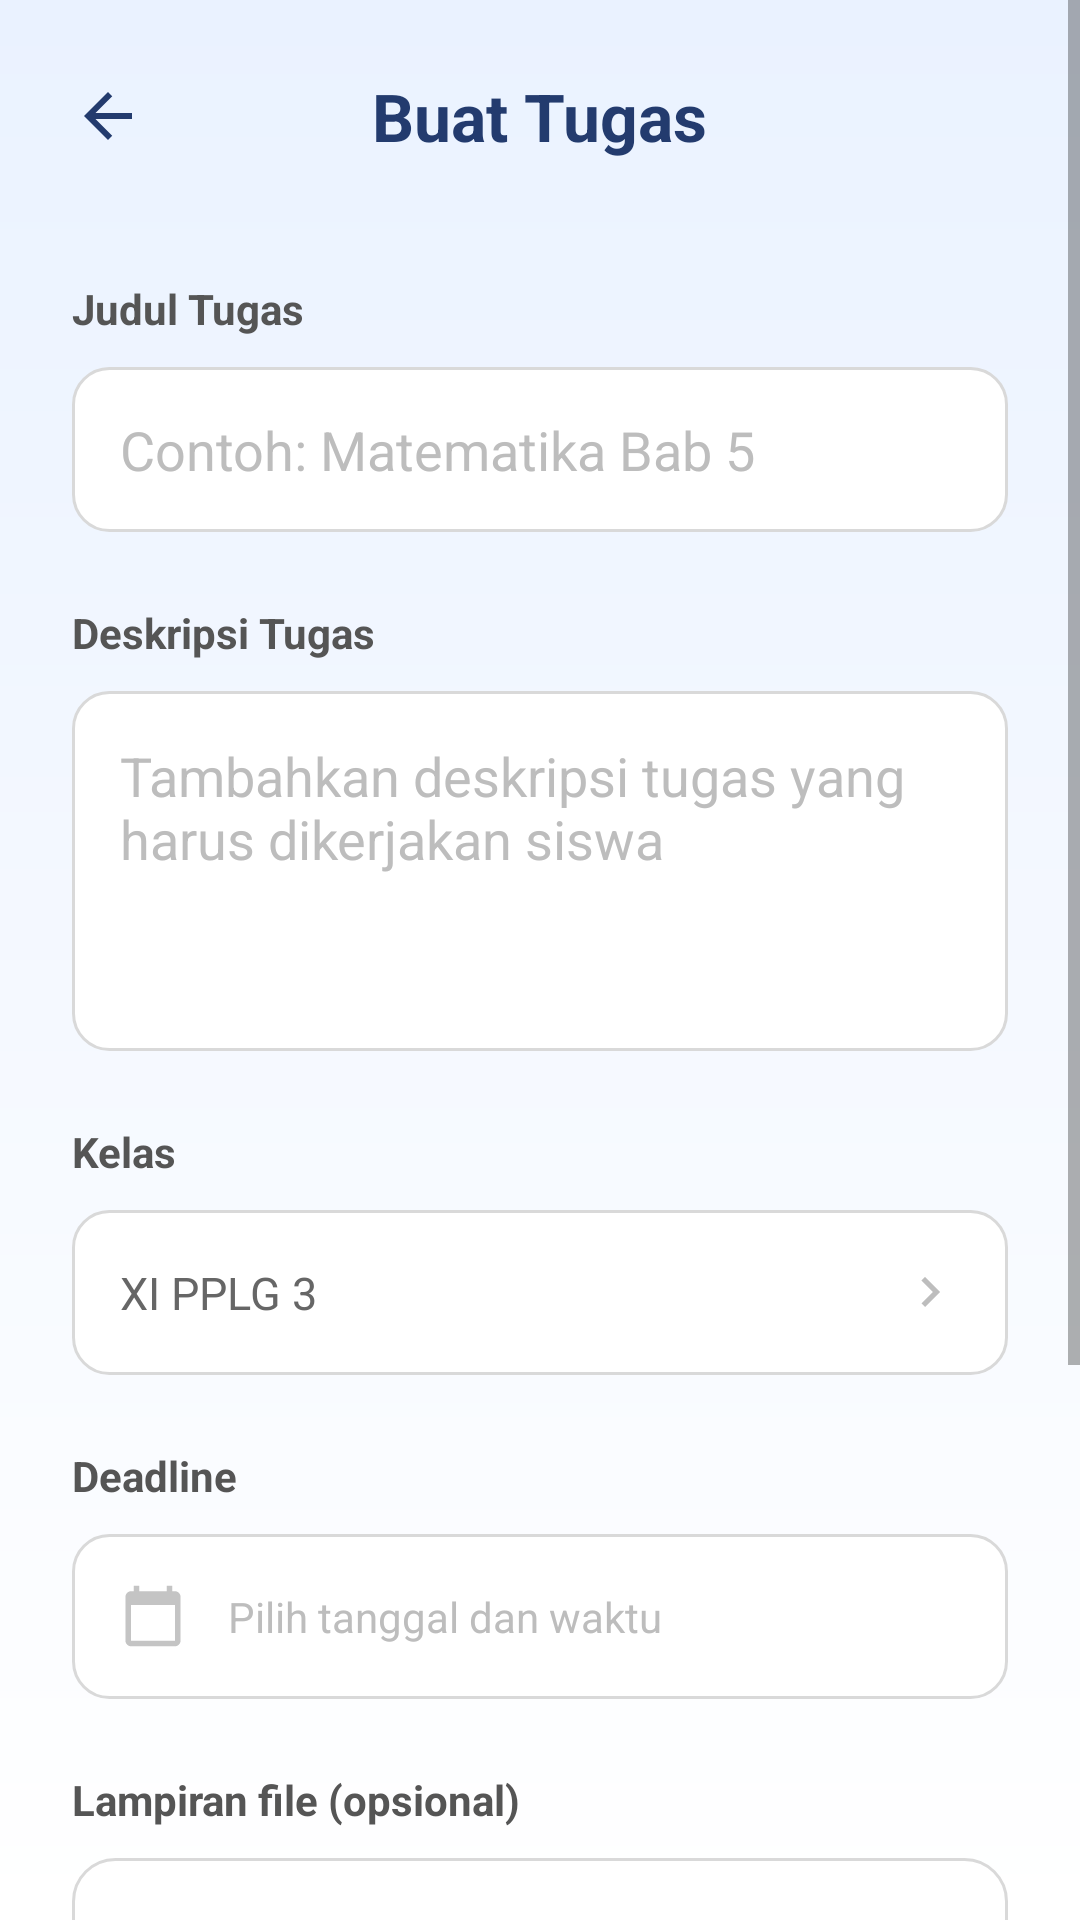

Icon bounding boxes for this 1080px x 1920px phone screenshot, format (x1,y1,x2,y2):
arrow back: (84,92,132,140)
arrow right: (921,1277,940,1307)
calendar: (125,1586,181,1646)
